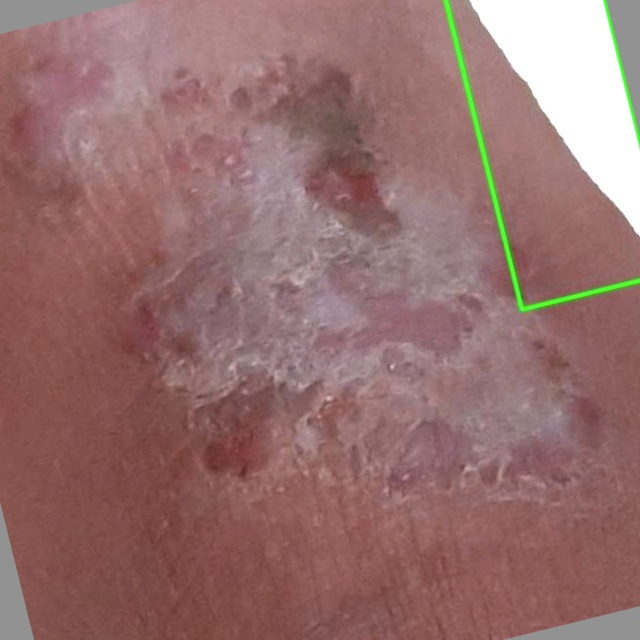Contact Dermatitis: (445, 0, 639, 309)
